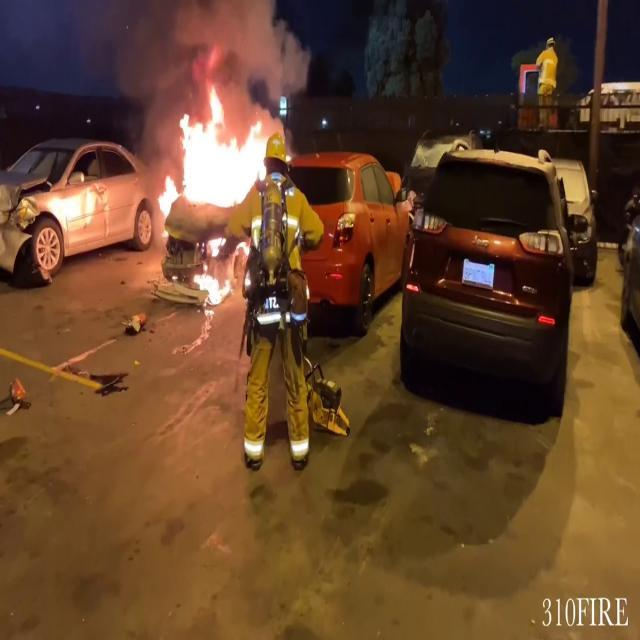Fire: (153, 83, 275, 235), (190, 232, 258, 306)
Smoke: (117, 0, 318, 120)
